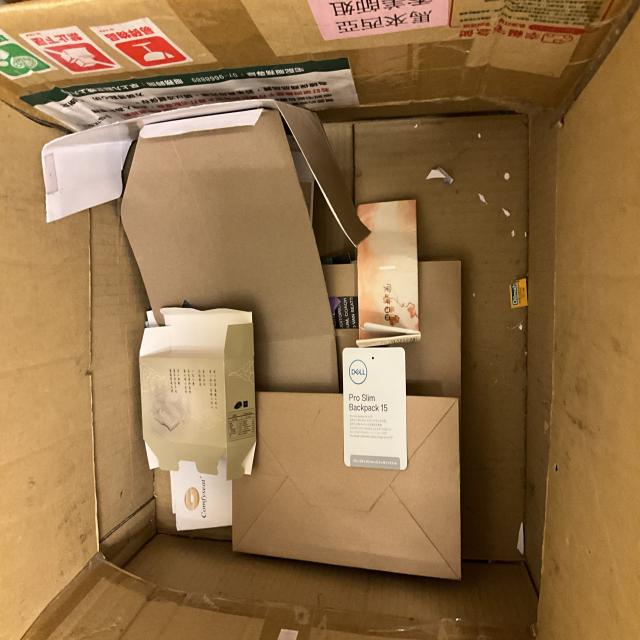cardboard: (30, 97, 361, 390), (236, 384, 460, 574), (137, 305, 255, 528), (354, 202, 421, 346)
